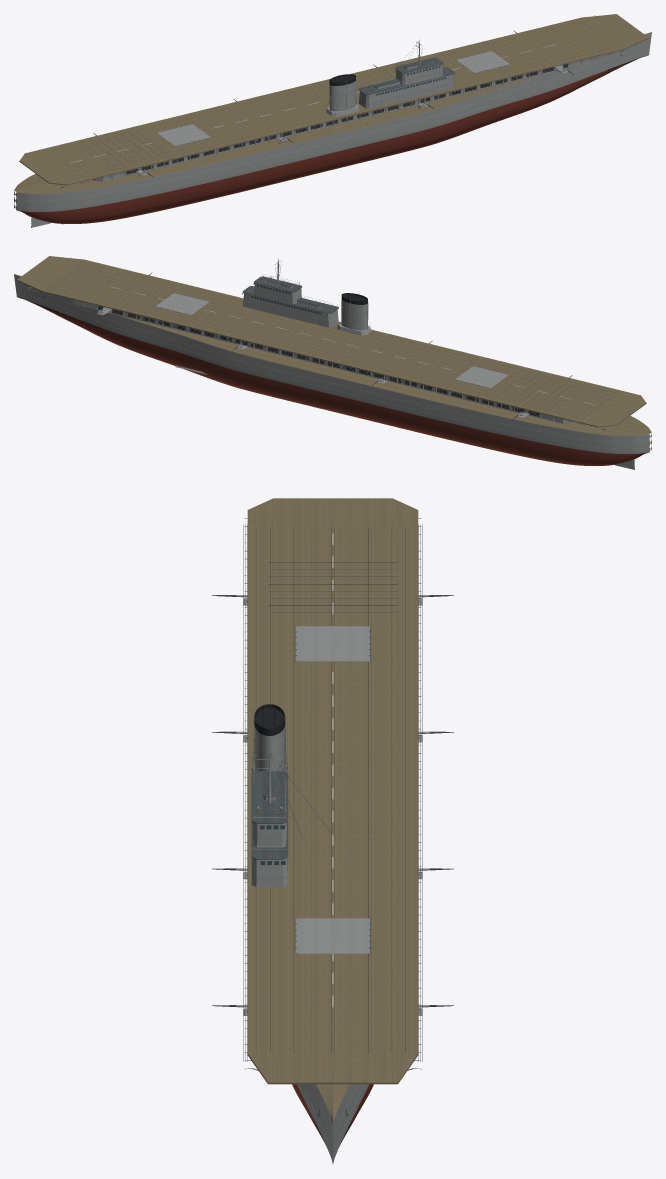
File: ecole_cv31.glb
3 renders of one model, top to bottom at view 1: azimuth 30°, elevation 25°; view 2: azimuth 150°, elevation 25°; view 3: azimuth 270°, elevation 25°, orthographic. The views are drawn at different scales.
Visible parts, largest first — view 1: Liberté carrier; view 2: Liberté carrier; view 3: Liberté carrier.
Part boxes in pixels (x1,y1,x2,y2): Liberté carrier: (14,14,651,227); Liberté carrier: (14,256,651,469); Liberté carrier: (212,498,453,1163).
Bounding box in the file's own units: 215 × 35.85 × 35.38.
Materials: 9 (8 with a texture image).
